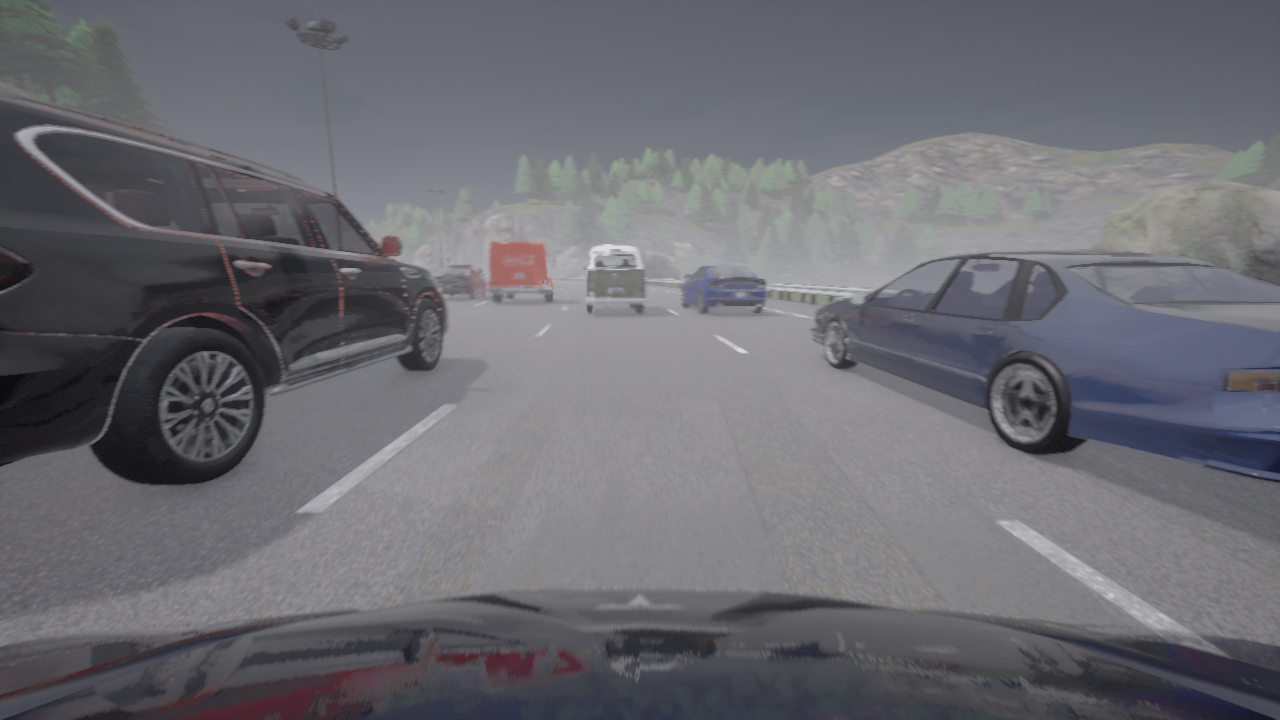cyclist: (0, 588, 1279, 719), (809, 250, 1279, 482), (582, 244, 645, 313), (682, 263, 766, 313), (488, 241, 555, 302), (434, 265, 485, 298)
